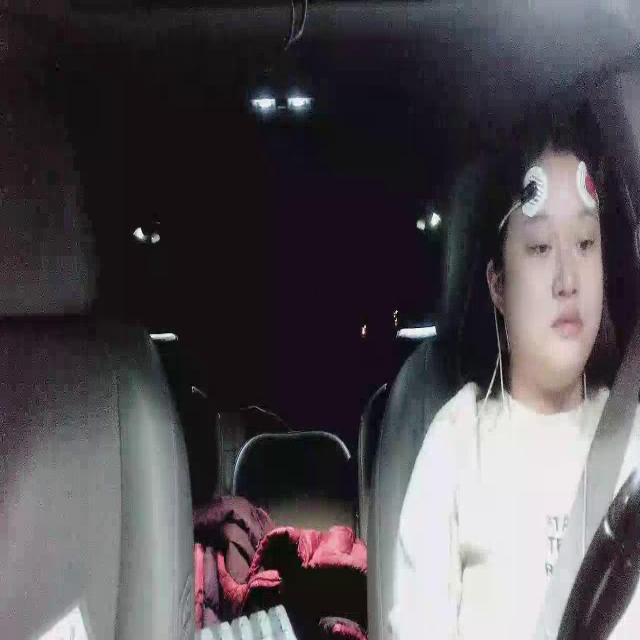Attentive: (477, 115, 612, 395)
